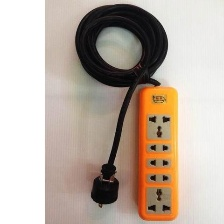three_eye_plug: (134, 83, 181, 223)
